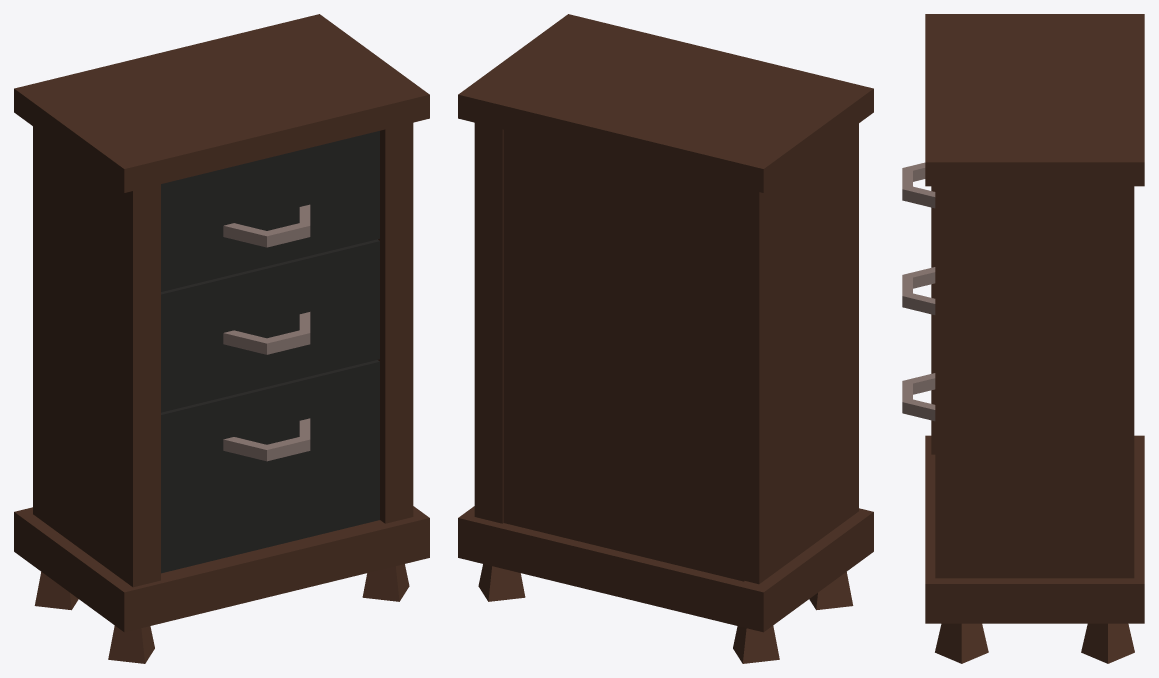
File: Drawer_2B.fbx
3 renders of one model, left to right at view 1: azimuth 30°, elevation 25°; view 2: azimuth 150°, elevation 25°; view 3: azimuth 270°, elevation 25°, orthographic.
Parts seen in each view (by area): view 1: polySurface1693; view 2: polySurface1693; view 3: polySurface1693.
Boxes of the visible parts, x1,y1,x2,y2 form: polySurface1693: (14, 14, 429, 663); polySurface1693: (458, 14, 873, 663); polySurface1693: (902, 14, 1144, 663).
Bounding box in the file's own units: 1.2 × 1.9 × 0.8282.
Materials: 1 (1 with a texture image).
